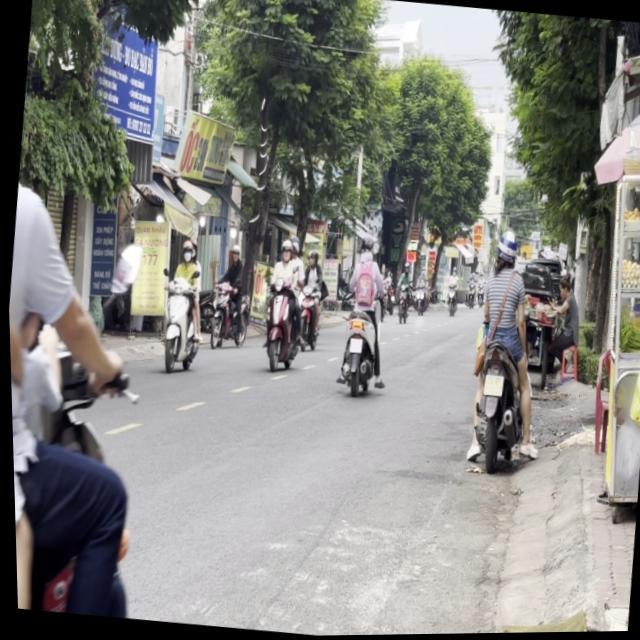helmet: (491, 231, 518, 272), (178, 236, 194, 261)
licenseplate: (452, 226, 551, 478), (153, 235, 208, 376)
nohelmet: (480, 376, 501, 398)
